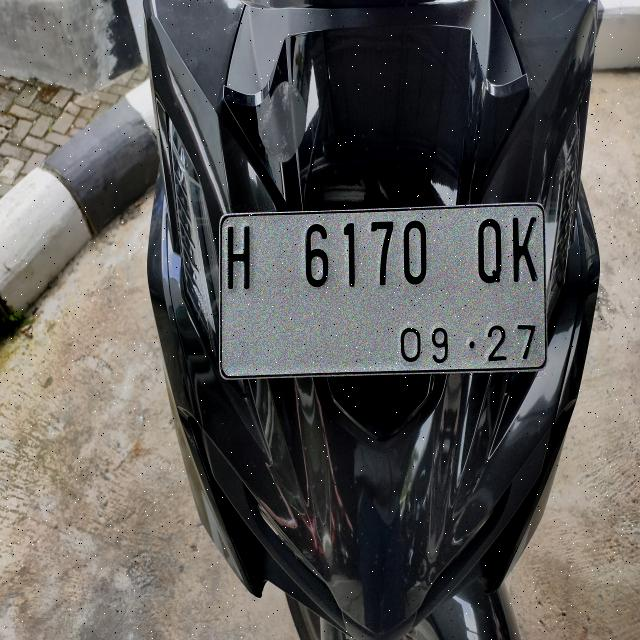plate: (220, 205, 545, 377)
